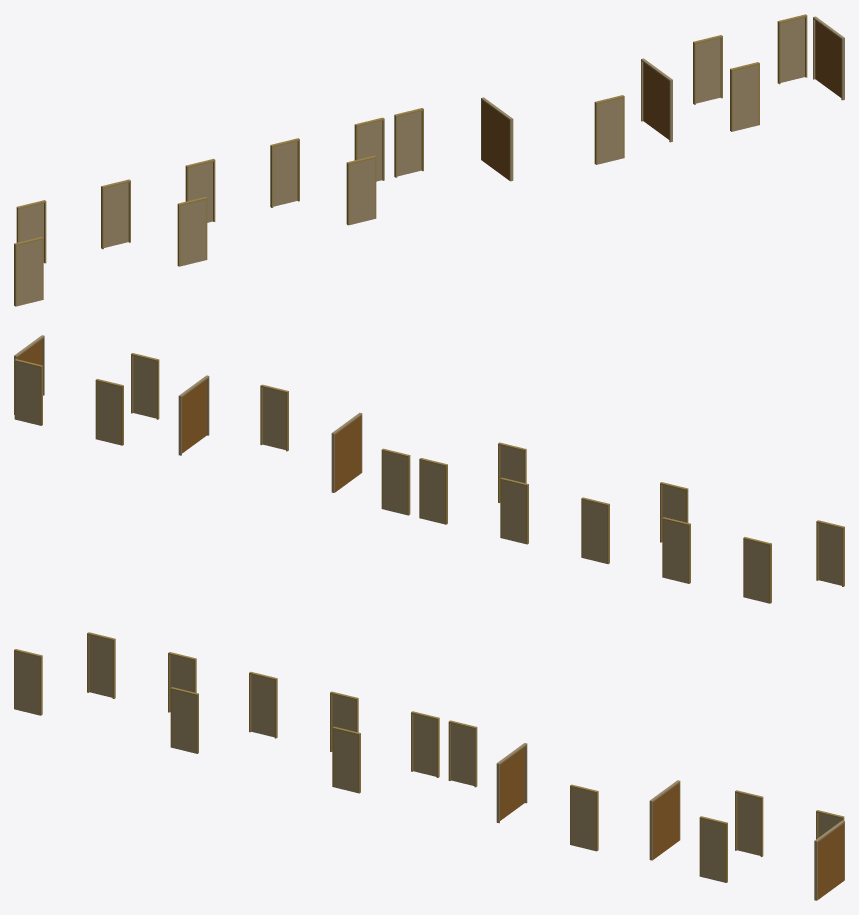
Rendered from 231110AC11-Institute-Var-2-IFC_Keller_IfcDoor.dae.
3 renders of one model, top to bottom at view 1: azimuth 30°, elevation 25°; view 2: azimuth 150°, elevation 25°; view 3: azimuth 330°, elevation 25°, orthographic. The views are drawn at different scales.
Parts seen in each view (by area): view 1: 2pe3RqZ0j8ogoAvp7iGUAH, 0Ti0dr3tHAq8uzw2luJtyI, 3sXEZFiePFsxi_o7909$c3, 3rmqVs9ZL3qgw1cva2u9Fv, 29qQ5ECrL6nQEhooPP__BH, 2MHPtmLzv5OhZf$6Z1Y75J, 2$tv64Cn5DZx8YisuS365o, 1lf5dxZ1LE_xJj$eJu8Rhu, 1nDSxVMDT3hh2Ql2HEz6Lg, 123VQUHCn26ei6whtqvtKu, 17n0YjYkvEshOmsrIPLGOb, 3qloCPnZDEQBom1ZjBlwJP (+4 smaller); view 2: 2pe3RqZ0j8ogoAvp7iGUAH, 3sXEZFiePFsxi_o7909$c3, 3qloCPnZDEQBom1ZjBlwJP, 2$tv64Cn5DZx8YisuS365o, 3NTkL25Pb8Y8HEKKJUt_B_, 0Xbk1qGZnCY9arQDkkuJ8L, 31Gx3VvgP1fvwL2I0a9YtY, 17n0YjYkvEshOmsrIPLGOb, 0_flqizUv5_A_EGt7DzP3T, 123VQUHCn26ei6whtqvtKu, 1lf5dxZ1LE_xJj$eJu8Rhu, 3rmqVs9ZL3qgw1cva2u9Fv (+4 smaller); view 3: 3sXEZFiePFsxi_o7909$c3, 2pe3RqZ0j8ogoAvp7iGUAH, 0Ti0dr3tHAq8uzw2luJtyI, 3qloCPnZDEQBom1ZjBlwJP, 1lf5dxZ1LE_xJj$eJu8Rhu, 3rmqVs9ZL3qgw1cva2u9Fv, 29qQ5ECrL6nQEhooPP__BH, 2MHPtmLzv5OhZf$6Z1Y75J, 1nDSxVMDT3hh2Ql2HEz6Lg, 3NTkL25Pb8Y8HEKKJUt_B_, 31Gx3VvgP1fvwL2I0a9YtY, 0_flqizUv5_A_EGt7DzP3T (+3 smaller).
Boxes of the visible parts, x1=… form: 2pe3RqZ0j8ogoAvp7iGUAH: x1=481, y1=97, x2=513, y2=181; 0Ti0dr3tHAq8uzw2luJtyI: x1=813, y1=16, x2=844, y2=100; 3sXEZFiePFsxi_o7909$c3: x1=641, y1=58, x2=672, y2=142; 3rmqVs9ZL3qgw1cva2u9Fv: x1=594, y1=95, x2=624, y2=164; 29qQ5ECrL6nQEhooPP__BH: x1=346, y1=155, x2=376, y2=225; 2MHPtmLzv5OhZf$6Z1Y75J: x1=177, y1=197, x2=207, y2=266; 2$tv64Cn5DZx8YisuS365o: x1=777, y1=14, x2=807, y2=84; 1lf5dxZ1LE_xJj$eJu8Rhu: x1=730, y1=62, x2=759, y2=131; 1nDSxVMDT3hh2Ql2HEz6Lg: x1=14, y1=237, x2=43, y2=306; 123VQUHCn26ei6whtqvtKu: x1=693, y1=35, x2=722, y2=104; 17n0YjYkvEshOmsrIPLGOb: x1=101, y1=179, x2=130, y2=249; 3qloCPnZDEQBom1ZjBlwJP: x1=394, y1=108, x2=423, y2=177; 2pe3RqZ0j8ogoAvp7iGUAH: x1=331, y1=412, x2=362, y2=492; 3sXEZFiePFsxi_o7909$c3: x1=178, y1=375, x2=209, y2=455; 3qloCPnZDEQBom1ZjBlwJP: x1=381, y1=448, x2=410, y2=515; 2$tv64Cn5DZx8YisuS365o: x1=14, y1=359, x2=42, y2=425; 3NTkL25Pb8Y8HEKKJUt_B_: x1=743, y1=537, x2=771, y2=603; 0Xbk1qGZnCY9arQDkkuJ8L: x1=500, y1=477, x2=528, y2=544; 31Gx3VvgP1fvwL2I0a9YtY: x1=581, y1=497, x2=609, y2=564; 17n0YjYkvEshOmsrIPLGOb: x1=662, y1=517, x2=690, y2=583; 0_flqizUv5_A_EGt7DzP3T: x1=419, y1=458, x2=447, y2=524; 123VQUHCn26ei6whtqvtKu: x1=95, y1=379, x2=123, y2=445; 1lf5dxZ1LE_xJj$eJu8Rhu: x1=131, y1=353, x2=159, y2=419; 3rmqVs9ZL3qgw1cva2u9Fv: x1=260, y1=384, x2=288, y2=451; 3sXEZFiePFsxi_o7909$c3: x1=649, y1=780, x2=680, y2=860; 2pe3RqZ0j8ogoAvp7iGUAH: x1=496, y1=743, x2=527, y2=823; 0Ti0dr3tHAq8uzw2luJtyI: x1=814, y1=820, x2=844, y2=900; 3qloCPnZDEQBom1ZjBlwJP: x1=448, y1=720, x2=477, y2=787; 1lf5dxZ1LE_xJj$eJu8Rhu: x1=699, y1=816, x2=727, y2=882; 3rmqVs9ZL3qgw1cva2u9Fv: x1=570, y1=784, x2=598, y2=851; 29qQ5ECrL6nQEhooPP__BH: x1=332, y1=726, x2=360, y2=793; 2MHPtmLzv5OhZf$6Z1Y75J: x1=170, y1=687, x2=198, y2=753; 1nDSxVMDT3hh2Ql2HEz6Lg: x1=14, y1=649, x2=42, y2=715; 3NTkL25Pb8Y8HEKKJUt_B_: x1=87, y1=632, x2=115, y2=698; 31Gx3VvgP1fvwL2I0a9YtY: x1=249, y1=671, x2=277, y2=738; 0_flqizUv5_A_EGt7DzP3T: x1=411, y1=711, x2=439, y2=777.
Bounding box in the file's own units: 29.59 × 2.37 × 2.1.
